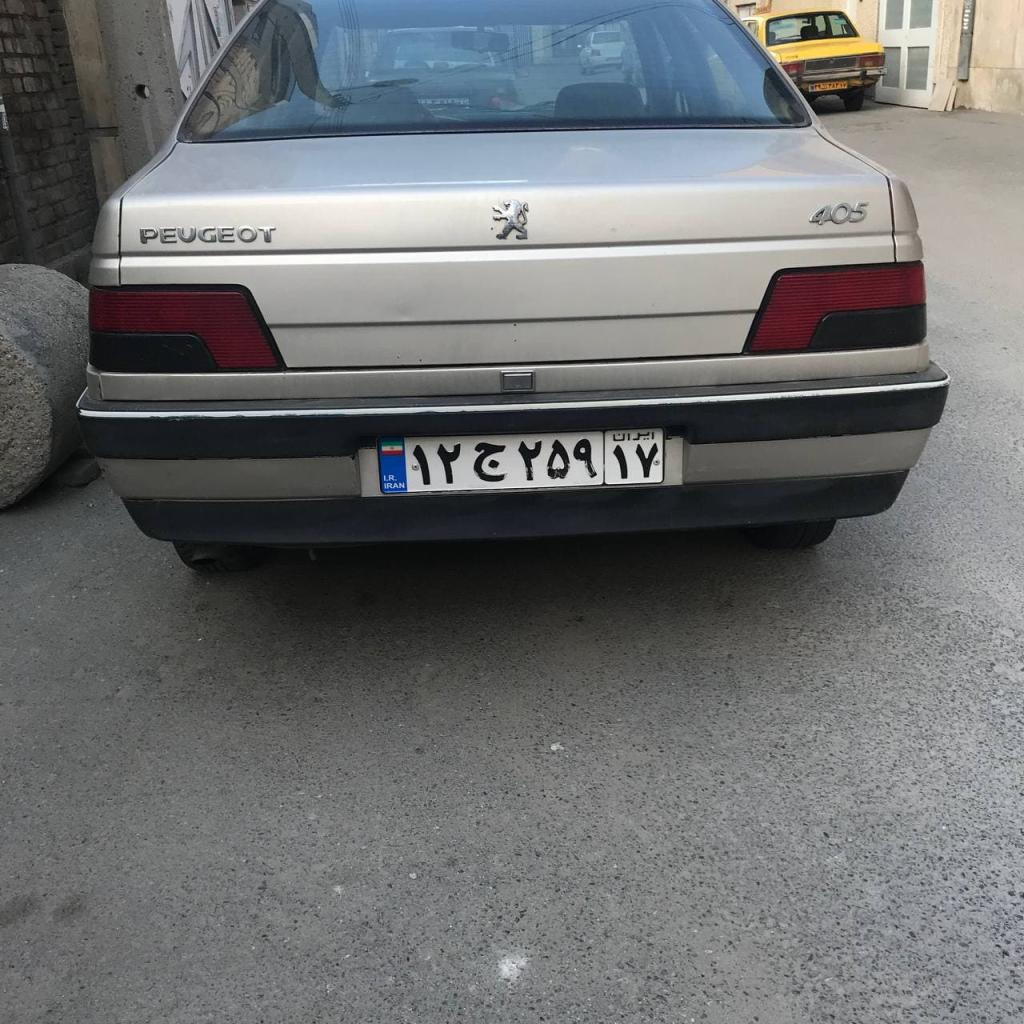Plates: (378, 427, 664, 494)
